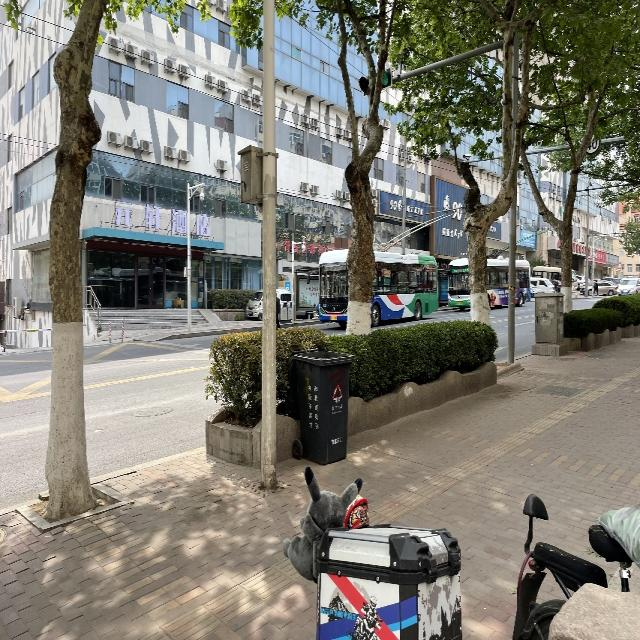garbage_bin: (292, 348, 354, 464)
